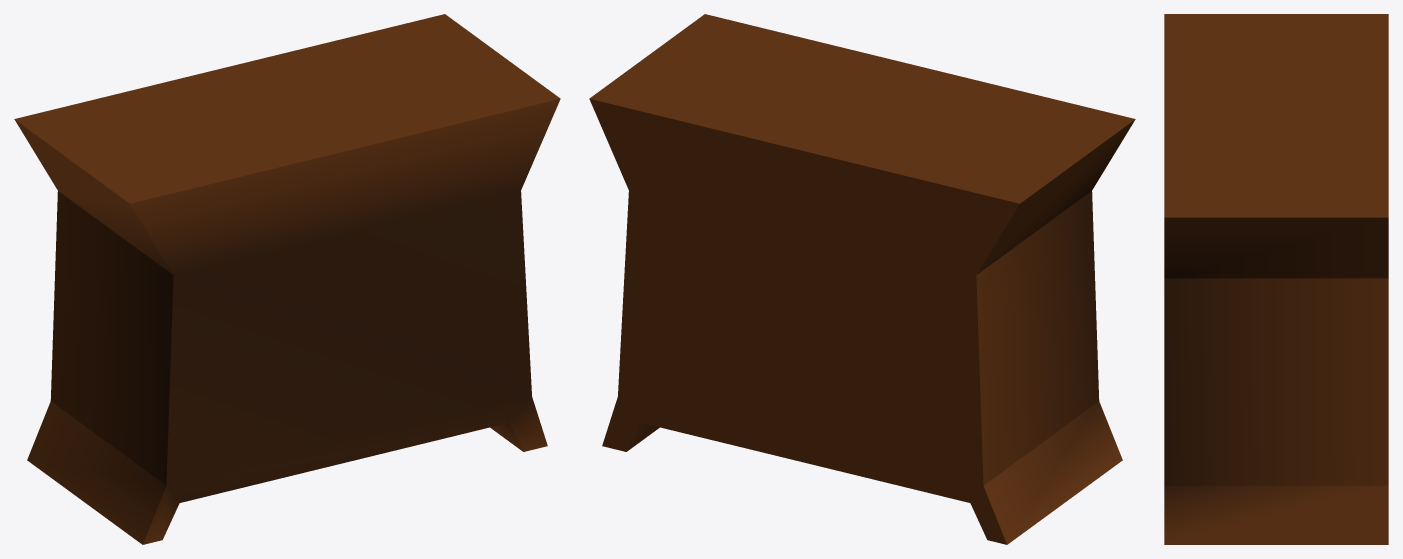
File: furniture.glb
3 views of the same model, side by side, from view 1: azimuth 30°, elevation 25°; view 2: azimuth 150°, elevation 25°; view 3: azimuth 270°, elevation 25° (orthographic). The views are drawn at different scales.
Visible parts, largest first — view 1: Cube; view 2: Cube; view 3: Cube.
Boxes of the visible parts, x1,y1,x2,y2 form: Cube: (14,14,560,544); Cube: (589,14,1135,544); Cube: (1164,14,1388,544).
Bounding box in the file's own units: 0.9165 × 0.7 × 0.4264.
